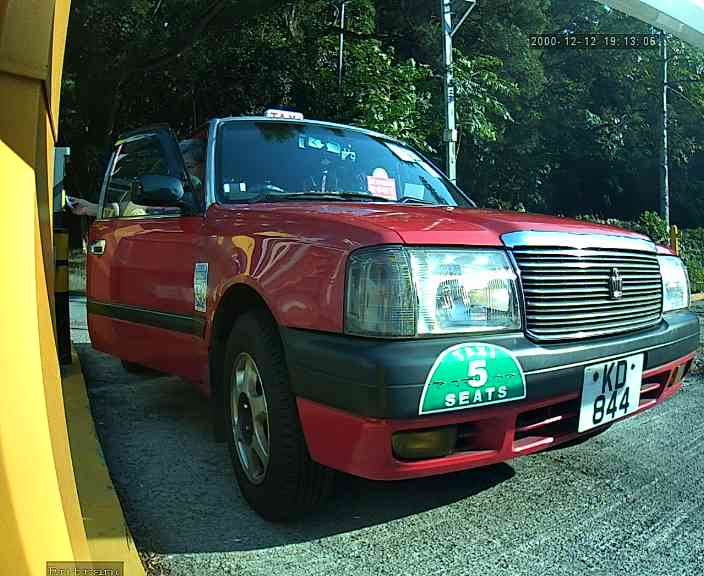bottom_left_lp: (575, 426, 585, 433)
bottom_left_radiator: (523, 326, 538, 346)
bottom_left_windshield: (208, 195, 224, 207)
bottom_right_lp: (632, 404, 641, 413)
bottom_right_radiator: (655, 311, 667, 323)
bottom_right_windshield: (467, 201, 476, 213)
brand: (606, 267, 629, 300)
left_headlight: (385, 238, 531, 342)
right_headlight: (652, 251, 692, 317)
top_left_lp: (577, 362, 589, 376)
top_left_radiator: (509, 238, 521, 256)
top_left_windshield: (211, 119, 226, 132)
top_right_lp: (638, 347, 648, 358)
top_right_radiator: (648, 246, 659, 258)
top_right_windshield: (400, 139, 413, 149)
